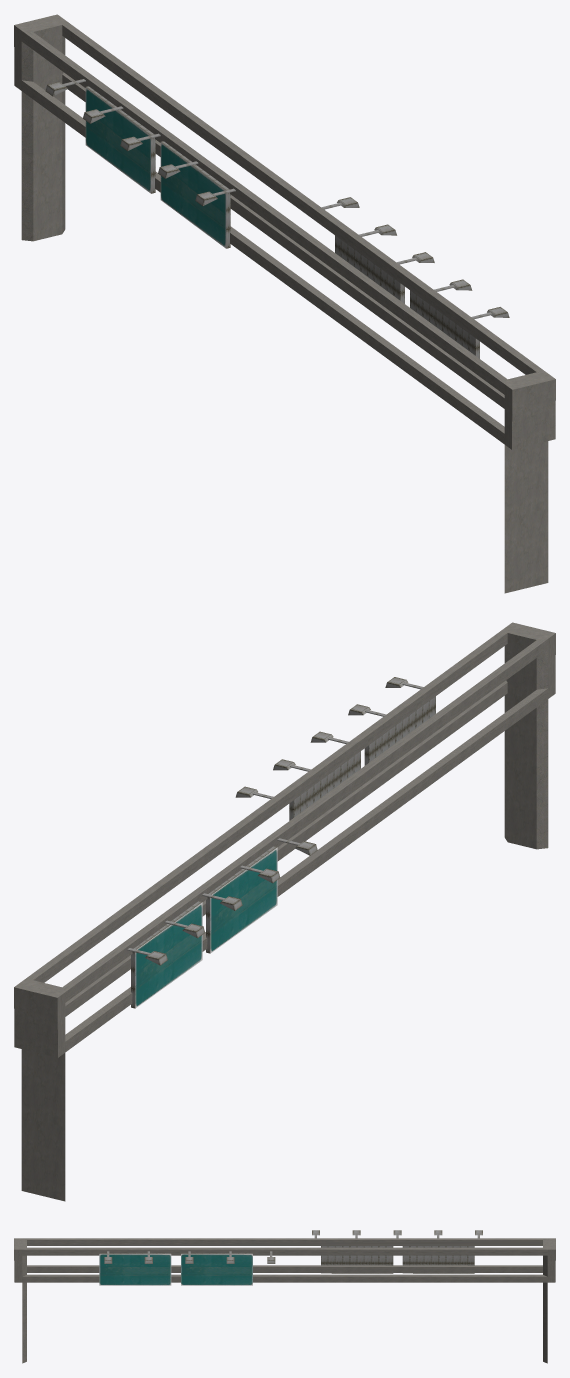
File: vegasmotsigncj.obj
3 views of the same model, one above another, from view 1: azimuth 30°, elevation 25°; view 2: azimuth 150°, elevation 25°; view 3: azimuth 270°, elevation 25° (orthographic). The views are drawn at different scales.
Parts seen in each view (by area): view 1: vegasmotsignCJ; view 2: vegasmotsignCJ; view 3: vegasmotsignCJ.
Part boxes in pixels (left/top/right/bottom): vegasmotsignCJ: left=14, top=14, right=555, bottom=593; vegasmotsignCJ: left=14, top=622, right=555, bottom=1201; vegasmotsignCJ: left=14, top=1230, right=555, bottom=1363.
Size of the model in its own units: 5.64 by 9.74 by 42.02.
3 materials, 3 textured.
